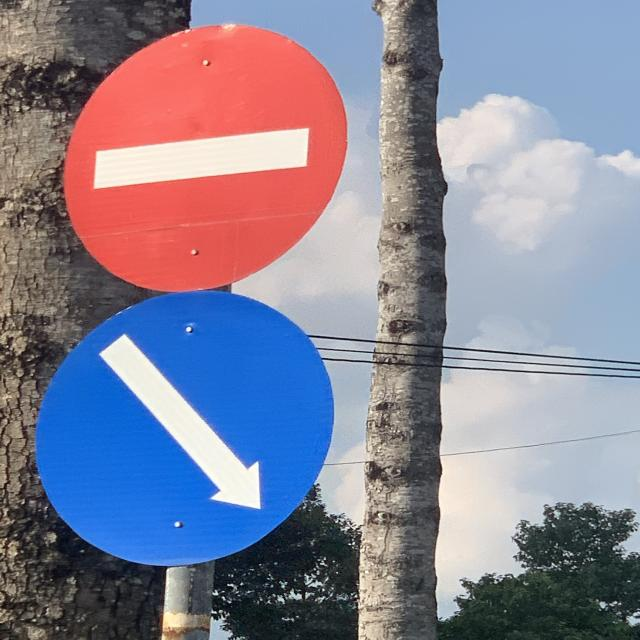Cam_Di_Nguoc_Chieu: (62, 23, 347, 292)
Chi_Huong_Di_Phai: (34, 293, 336, 566)
